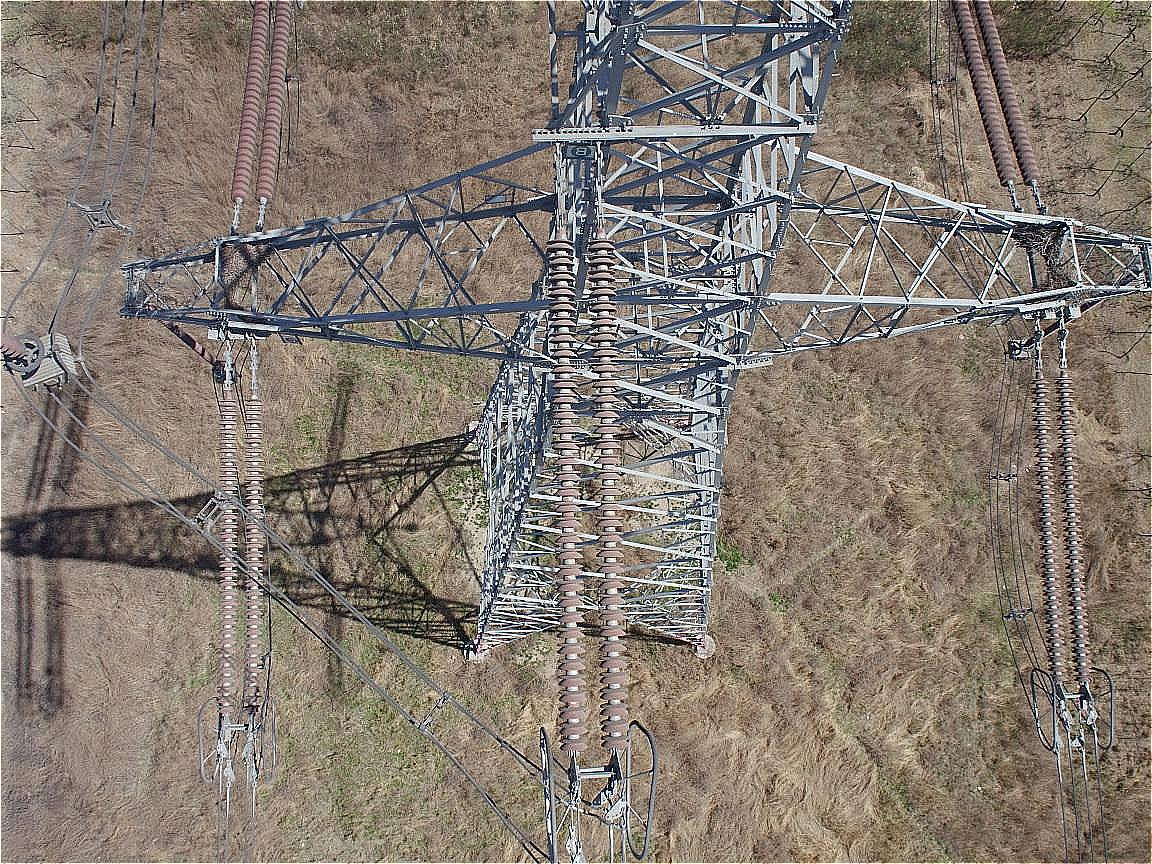insultor1: (943, 1, 1047, 204), (223, 1, 298, 210)
insultor2: (527, 197, 667, 771), (1022, 357, 1103, 719), (209, 381, 281, 722)
